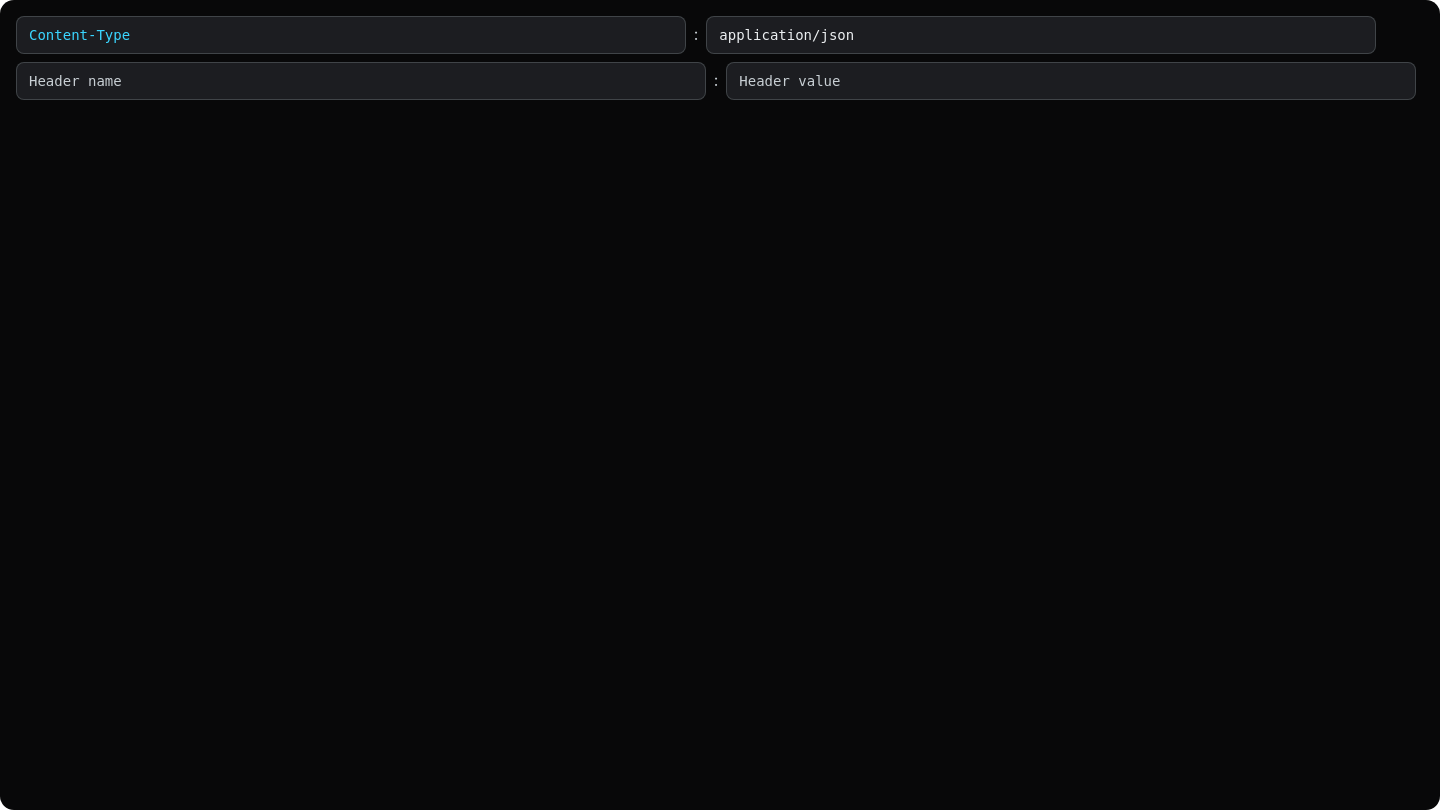
HeaderEditor › allows editing existing header
Click the button with test id "header-row-0".
click(696, 35)  # box [16,16,1376,54]
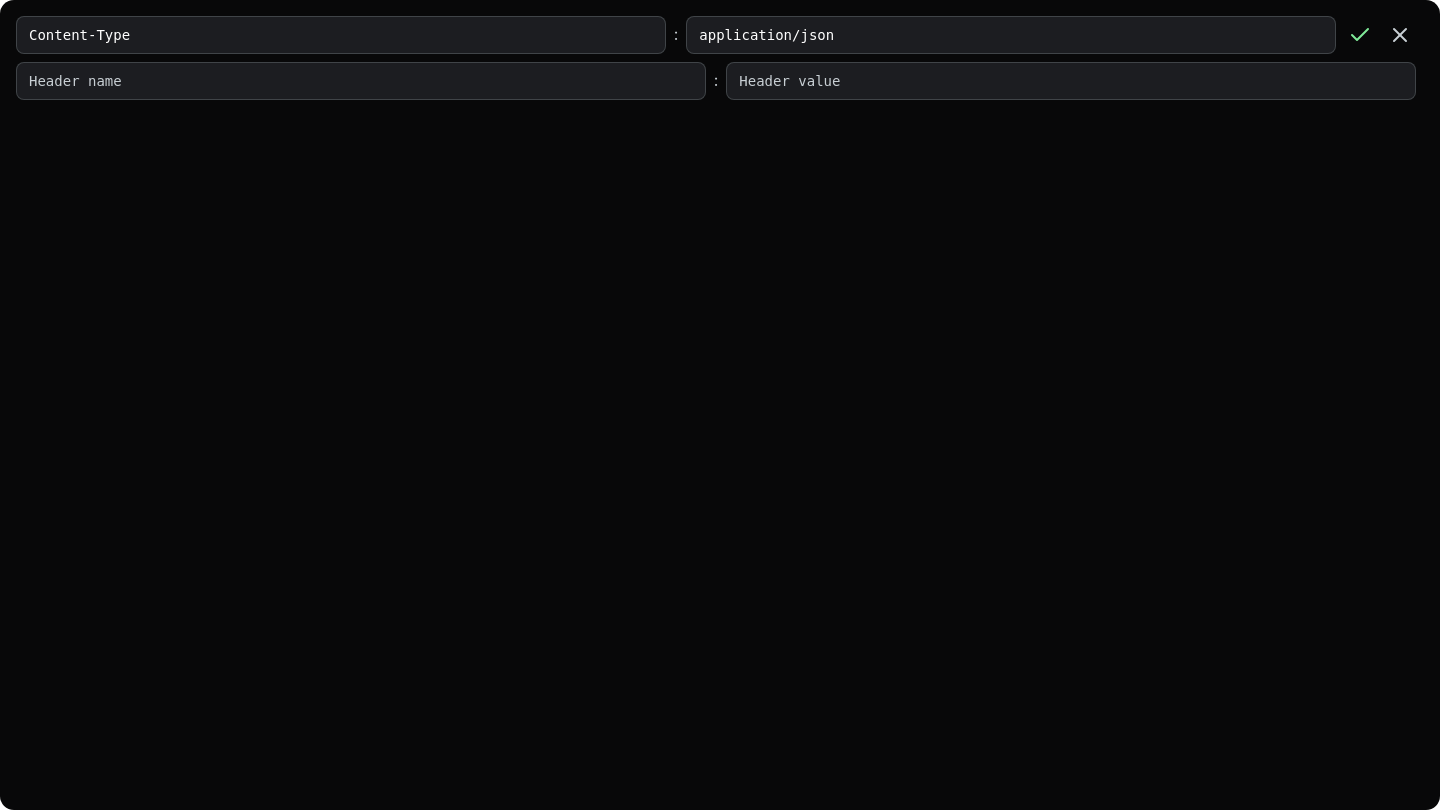
Check: the field with test id "header-key-input-0" is shown, box [16,16,666,54]
Check: the field with test id "header-value-input-0" is shown, box [686,16,1336,54]
